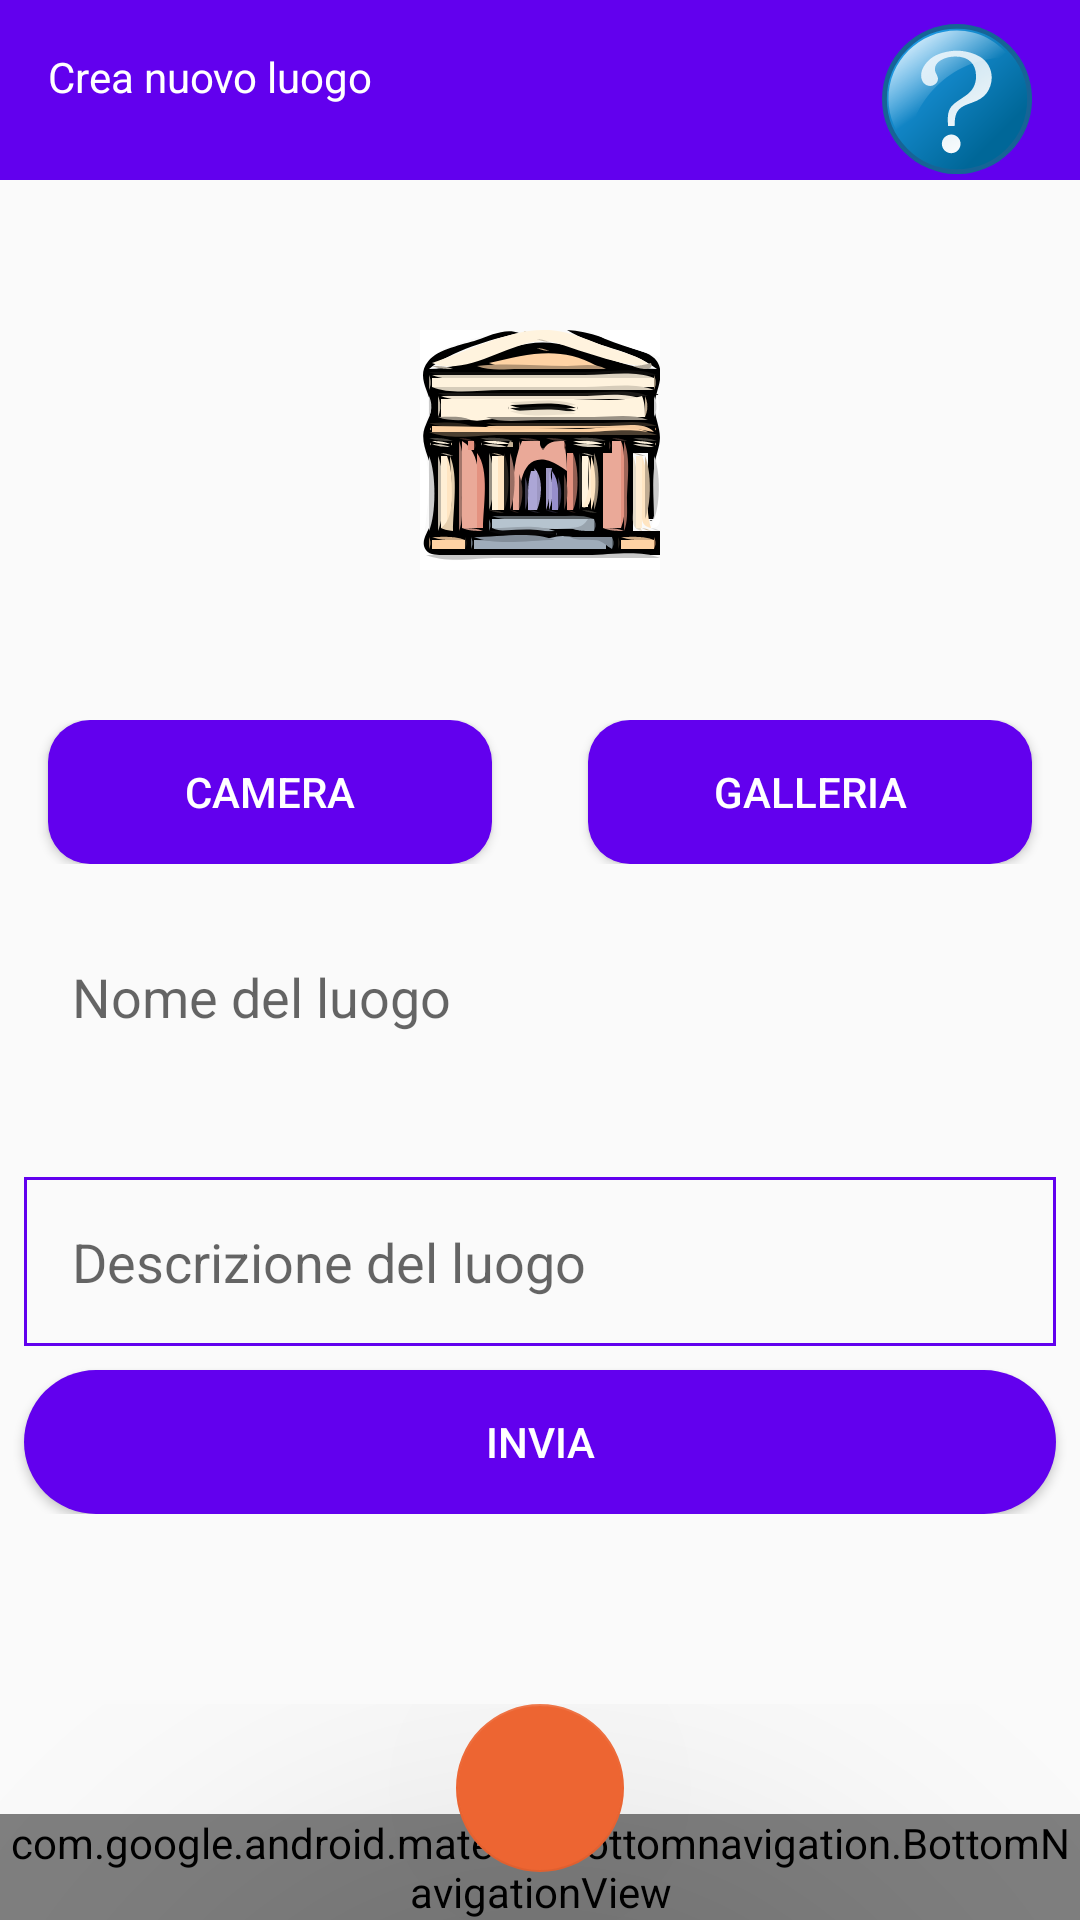

Named icons in this screenshot (1080w x 1920h) and their bounding boxes, (x1, y1, x2, y2):
bottoneluogo: (423, 330, 660, 560)
kuba information set: (882, 24, 1032, 174)
